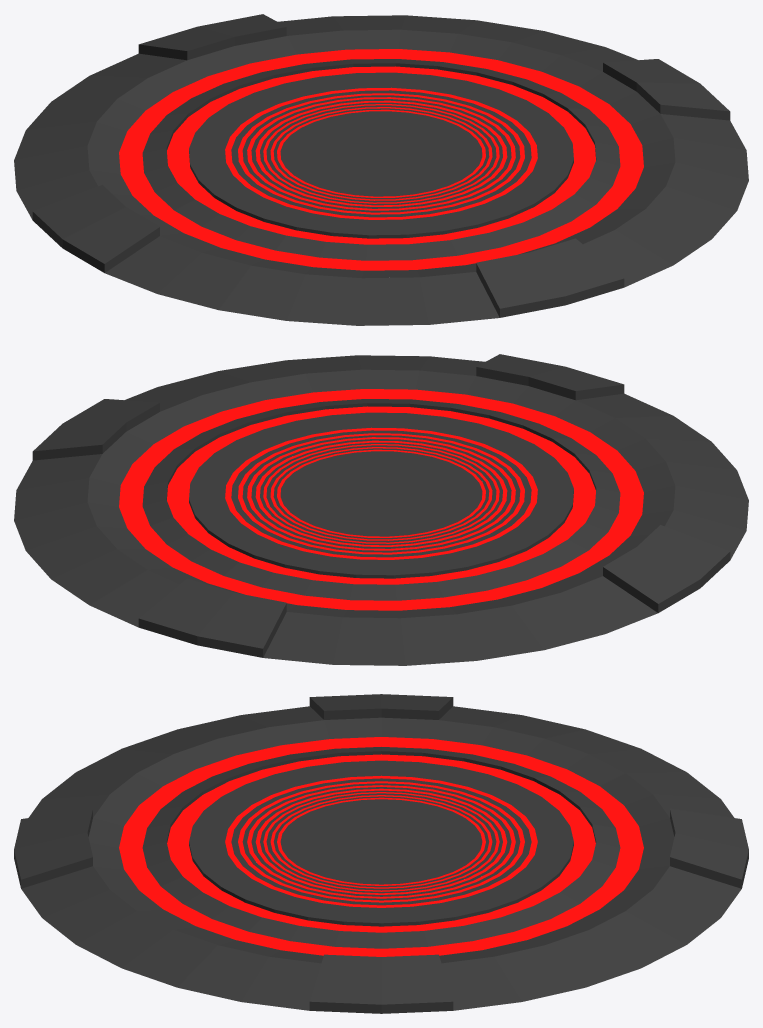
Rendered from Platform.glb.
3 views of the same model, one above another, from view 1: azimuth 30°, elevation 25°; view 2: azimuth 150°, elevation 25°; view 3: azimuth 270°, elevation 25° (orthographic).
Parts seen in each view (by area): view 1: GlassTank.002; view 2: GlassTank.002; view 3: GlassTank.002.
Part boxes in pixels (x1,y1,x2,y2): GlassTank.002: [14, 14, 748, 325]; GlassTank.002: [14, 354, 748, 665]; GlassTank.002: [14, 694, 748, 1013].
Size of the model in its own units: 0.9975 by 0.0386 by 0.9975.
